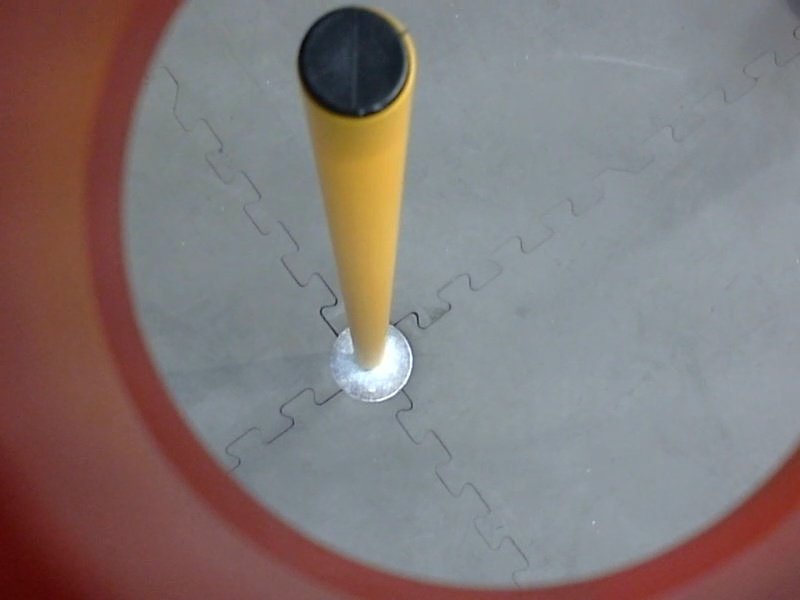tip: (287, 2, 429, 127)
